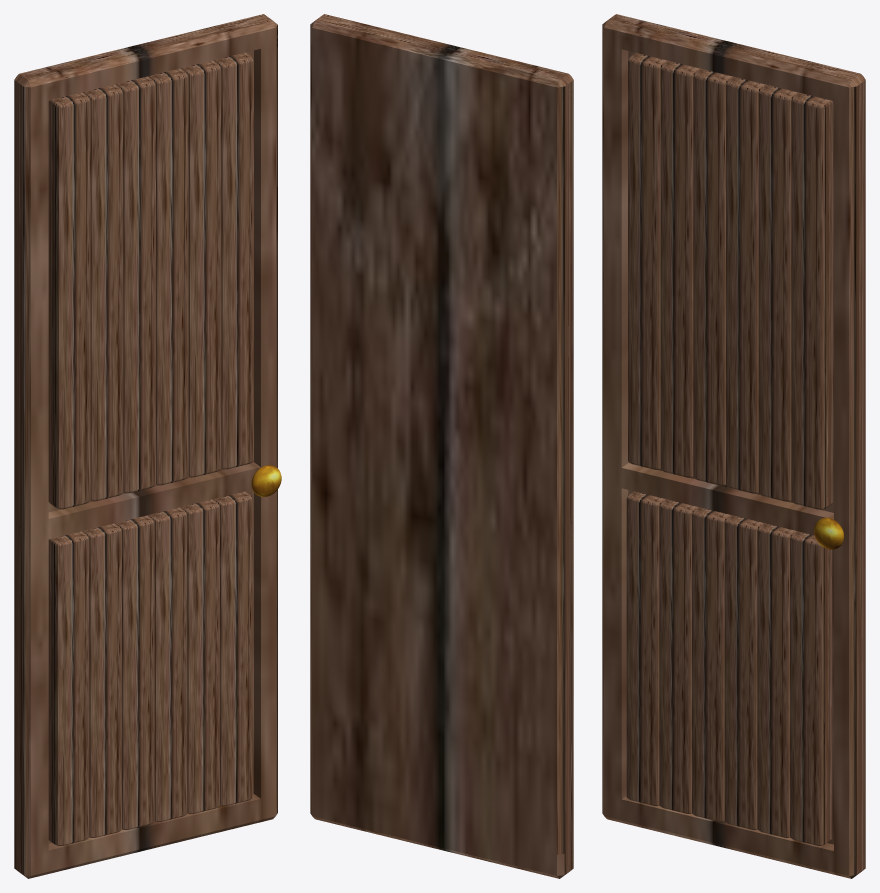
File: door export.fbx
The picture shows the model from 3 angles, left to right: view 1: azimuth 30°, elevation 25°; view 2: azimuth 150°, elevation 25°; view 3: azimuth 330°, elevation 25°; orthographic projection.
Visible parts, largest first — view 1: pCube13; view 2: pCube13; view 3: pCube13.
Part boxes in pixels (left/top/right/bottom): pCube13: left=14, top=14, right=281, bottom=878; pCube13: left=310, top=14, right=573, bottom=878; pCube13: left=602, top=14, right=865, bottom=878.
Size of the model in its own units: 1 by 3 by 0.1599.
Materials: 2 (2 with a texture image).
